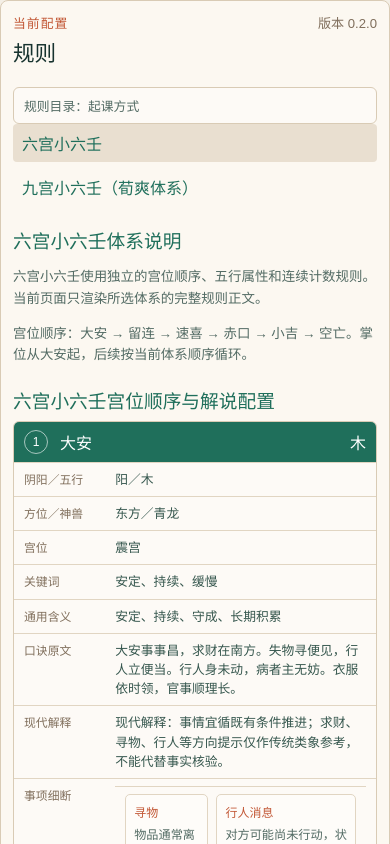
Test case: 规则页折叠卡片 › supports the mobile directory and hash entry point
Click the button with class "rules-toc-toggle". click: (56, 106)
box: left=13, top=87, right=377, bottom=124
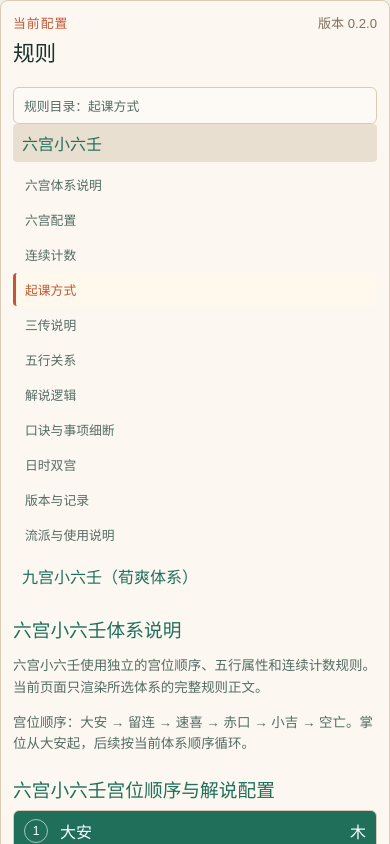
Click the button "连续计数". click: (51, 256)
box: left=13, top=238, right=377, bottom=271
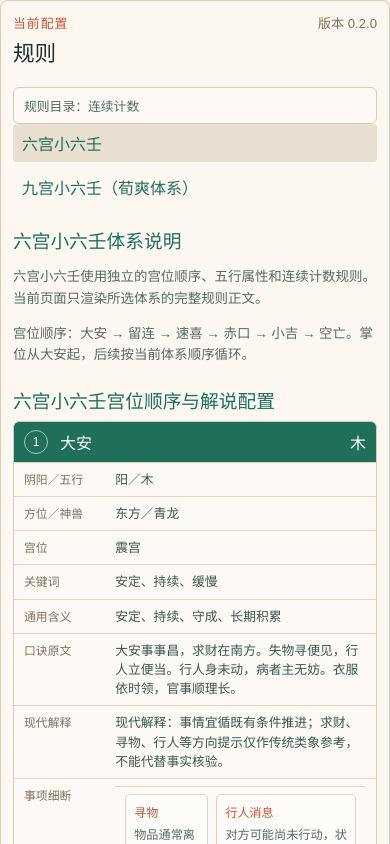
Now the button with class "rules-toc-toggle" is collapsed, box left=13, top=87, right=377, bottom=124
